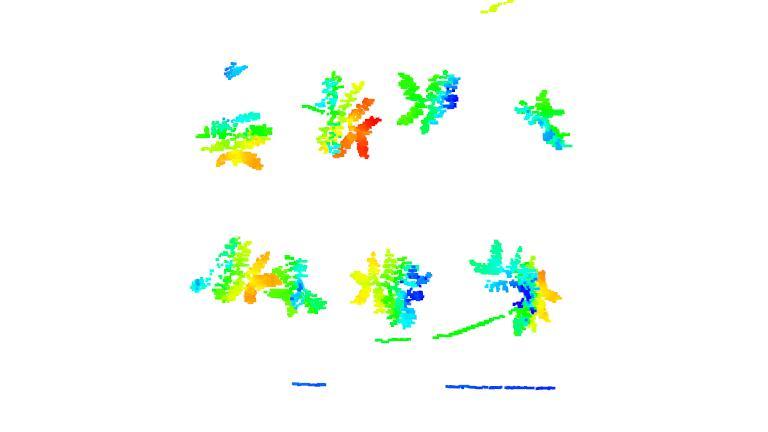chickpea: (472, 239, 563, 337), (346, 248, 434, 333), (302, 71, 382, 160), (190, 236, 282, 306), (194, 109, 273, 169), (395, 68, 464, 135), (269, 253, 329, 319), (513, 87, 574, 151)
